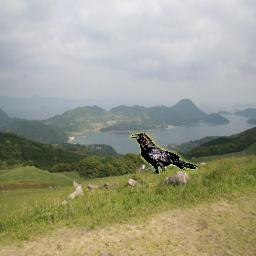Crow: (129, 132, 198, 174)
